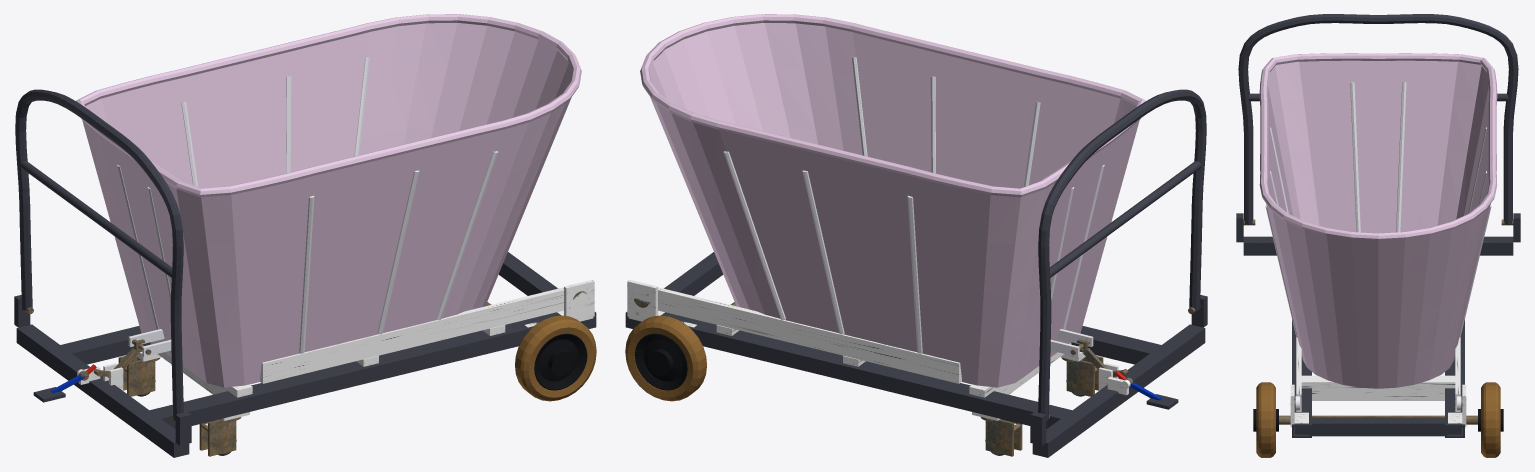
Rendered from Urban_Environment_Tilt_Truck2__1189.glb.
The picture shows the model from 3 angles, left to right: view 1: azimuth 30°, elevation 25°; view 2: azimuth 150°, elevation 25°; view 3: azimuth 270°, elevation 25°; orthographic projection. The views are drawn at different scales.
Visible parts, largest first — view 1: hopper::hopper_form__u_nose_scoop__tub_shell, hopper::hopper_form__u_nose_scoop__rim_lip, push_handle::push_handle__folding_hoop__hoop_tube, hopper::trunnion_channel_1, chassis::chassis__fork_pockets__pocket_wall_1_1, chassis::chassis__fork_pockets__pocket_top_1, main_wheel_1::main_wheel_1_tire, chassis::rear_outrigger_beam, chassis::chassis__fork_pockets__cross_member_2, main_wheel_1::main_wheel_1_rim, push_handle::push_handle__folding_hoop__rung_0, chassis::chassis__fork_pockets__cross_member_0 (+10 smaller); view 2: hopper::hopper_form__u_nose_scoop__tub_shell, hopper::hopper_form__u_nose_scoop__rim_lip, push_handle::push_handle__folding_hoop__hoop_tube, hopper::trunnion_channel_0, chassis::chassis__fork_pockets__pocket_wall_0_0, chassis::chassis__fork_pockets__pocket_top_0, main_wheel_0::main_wheel_0_tire, chassis::rear_outrigger_beam, chassis::chassis__fork_pockets__cross_member_2, main_wheel_0::main_wheel_0_rim, push_handle::push_handle__folding_hoop__rung_0, chassis::chassis__fork_pockets__cross_member_0 (+10 smaller); view 3: hopper::hopper_form__u_nose_scoop__tub_shell, push_handle::push_handle__folding_hoop__hoop_tube, hopper::hopper_form__u_nose_scoop__rim_lip, chassis::chassis__fork_pockets__cross_member_0, chassis::chassis__fork_pockets__deck_bearer_2, main_wheel_0::main_wheel_0_tire, main_wheel_1::main_wheel_1_tire, chassis::rear_outrigger_beam, chassis::chassis__fork_pockets__pocket_top_0, chassis::chassis__fork_pockets__pocket_top_1, hopper::hopper_form__u_nose_scoop__rear_rib_0, hopper::hopper_form__u_nose_scoop__rear_rib_1 (+3 smaller).
Boxes of the visible parts, x1,y1,x2,y2 form: hopper::hopper_form__u_nose_scoop__tub_shell: (82,23,572,387); hopper::hopper_form__u_nose_scoop__rim_lip: (76,14,581,197); push_handle::push_handle__folding_hoop__hoop_tube: (15,89,183,420); hopper::trunnion_channel_1: (260,287,563,383); chassis::chassis__fork_pockets__pocket_wall_1_1: (144,312,596,435); chassis::chassis__fork_pockets__pocket_top_1: (134,312,596,424); main_wheel_1::main_wheel_1_tire: (515,315,596,401); chassis::rear_outrigger_beam: (16,324,189,457); chassis::chassis__fork_pockets__cross_member_2: (57,355,156,435); main_wheel_1::main_wheel_1_rim: (534,333,587,390); push_handle::push_handle__folding_hoop__rung_0: (20,161,172,277); chassis::chassis__fork_pockets__cross_member_0: (498,252,557,295); hopper::hopper_form__u_nose_scoop__tub_shell: (649,23,1139,387); hopper::hopper_form__u_nose_scoop__rim_lip: (640,14,1145,197); push_handle::push_handle__folding_hoop__hoop_tube: (1038,89,1206,420); hopper::trunnion_channel_0: (658,287,961,383); chassis::chassis__fork_pockets__pocket_wall_0_0: (625,312,1077,434); chassis::chassis__fork_pockets__pocket_top_0: (625,312,1079,424); main_wheel_0::main_wheel_0_tire: (625,315,706,401); chassis::rear_outrigger_beam: (1032,324,1205,457); chassis::chassis__fork_pockets__cross_member_2: (1064,352,1175,435); main_wheel_0::main_wheel_0_rim: (634,333,687,390); push_handle::push_handle__folding_hoop__rung_0: (1049,161,1201,277); chassis::chassis__fork_pockets__cross_member_0: (664,252,723,295); hopper::hopper_form__u_nose_scoop__tub_shell: (1266,60,1490,388); push_handle::push_handle__folding_hoop__hoop_tube: (1238,14,1518,224); hopper::hopper_form__u_nose_scoop__rim_lip: (1259,53,1497,240); chassis::chassis__fork_pockets__cross_member_0: (1295,417,1461,436); chassis::chassis__fork_pockets__deck_bearer_2: (1301,375,1455,400); main_wheel_0::main_wheel_0_tire: (1481,382,1500,457); main_wheel_1::main_wheel_1_tire: (1256,382,1275,457); chassis::rear_outrigger_beam: (1243,236,1513,255); chassis::chassis__fork_pockets__pocket_top_0: (1445,320,1464,427); chassis::chassis__fork_pockets__pocket_top_1: (1292,320,1311,427); hopper::hopper_form__u_nose_scoop__rear_rib_0: (1350,82,1360,232); hopper::hopper_form__u_nose_scoop__rear_rib_1: (1396,82,1406,232).
Size of the model in its own units: 2.03 by 1.21 by 1.12.
11 materials, 9 textured.
